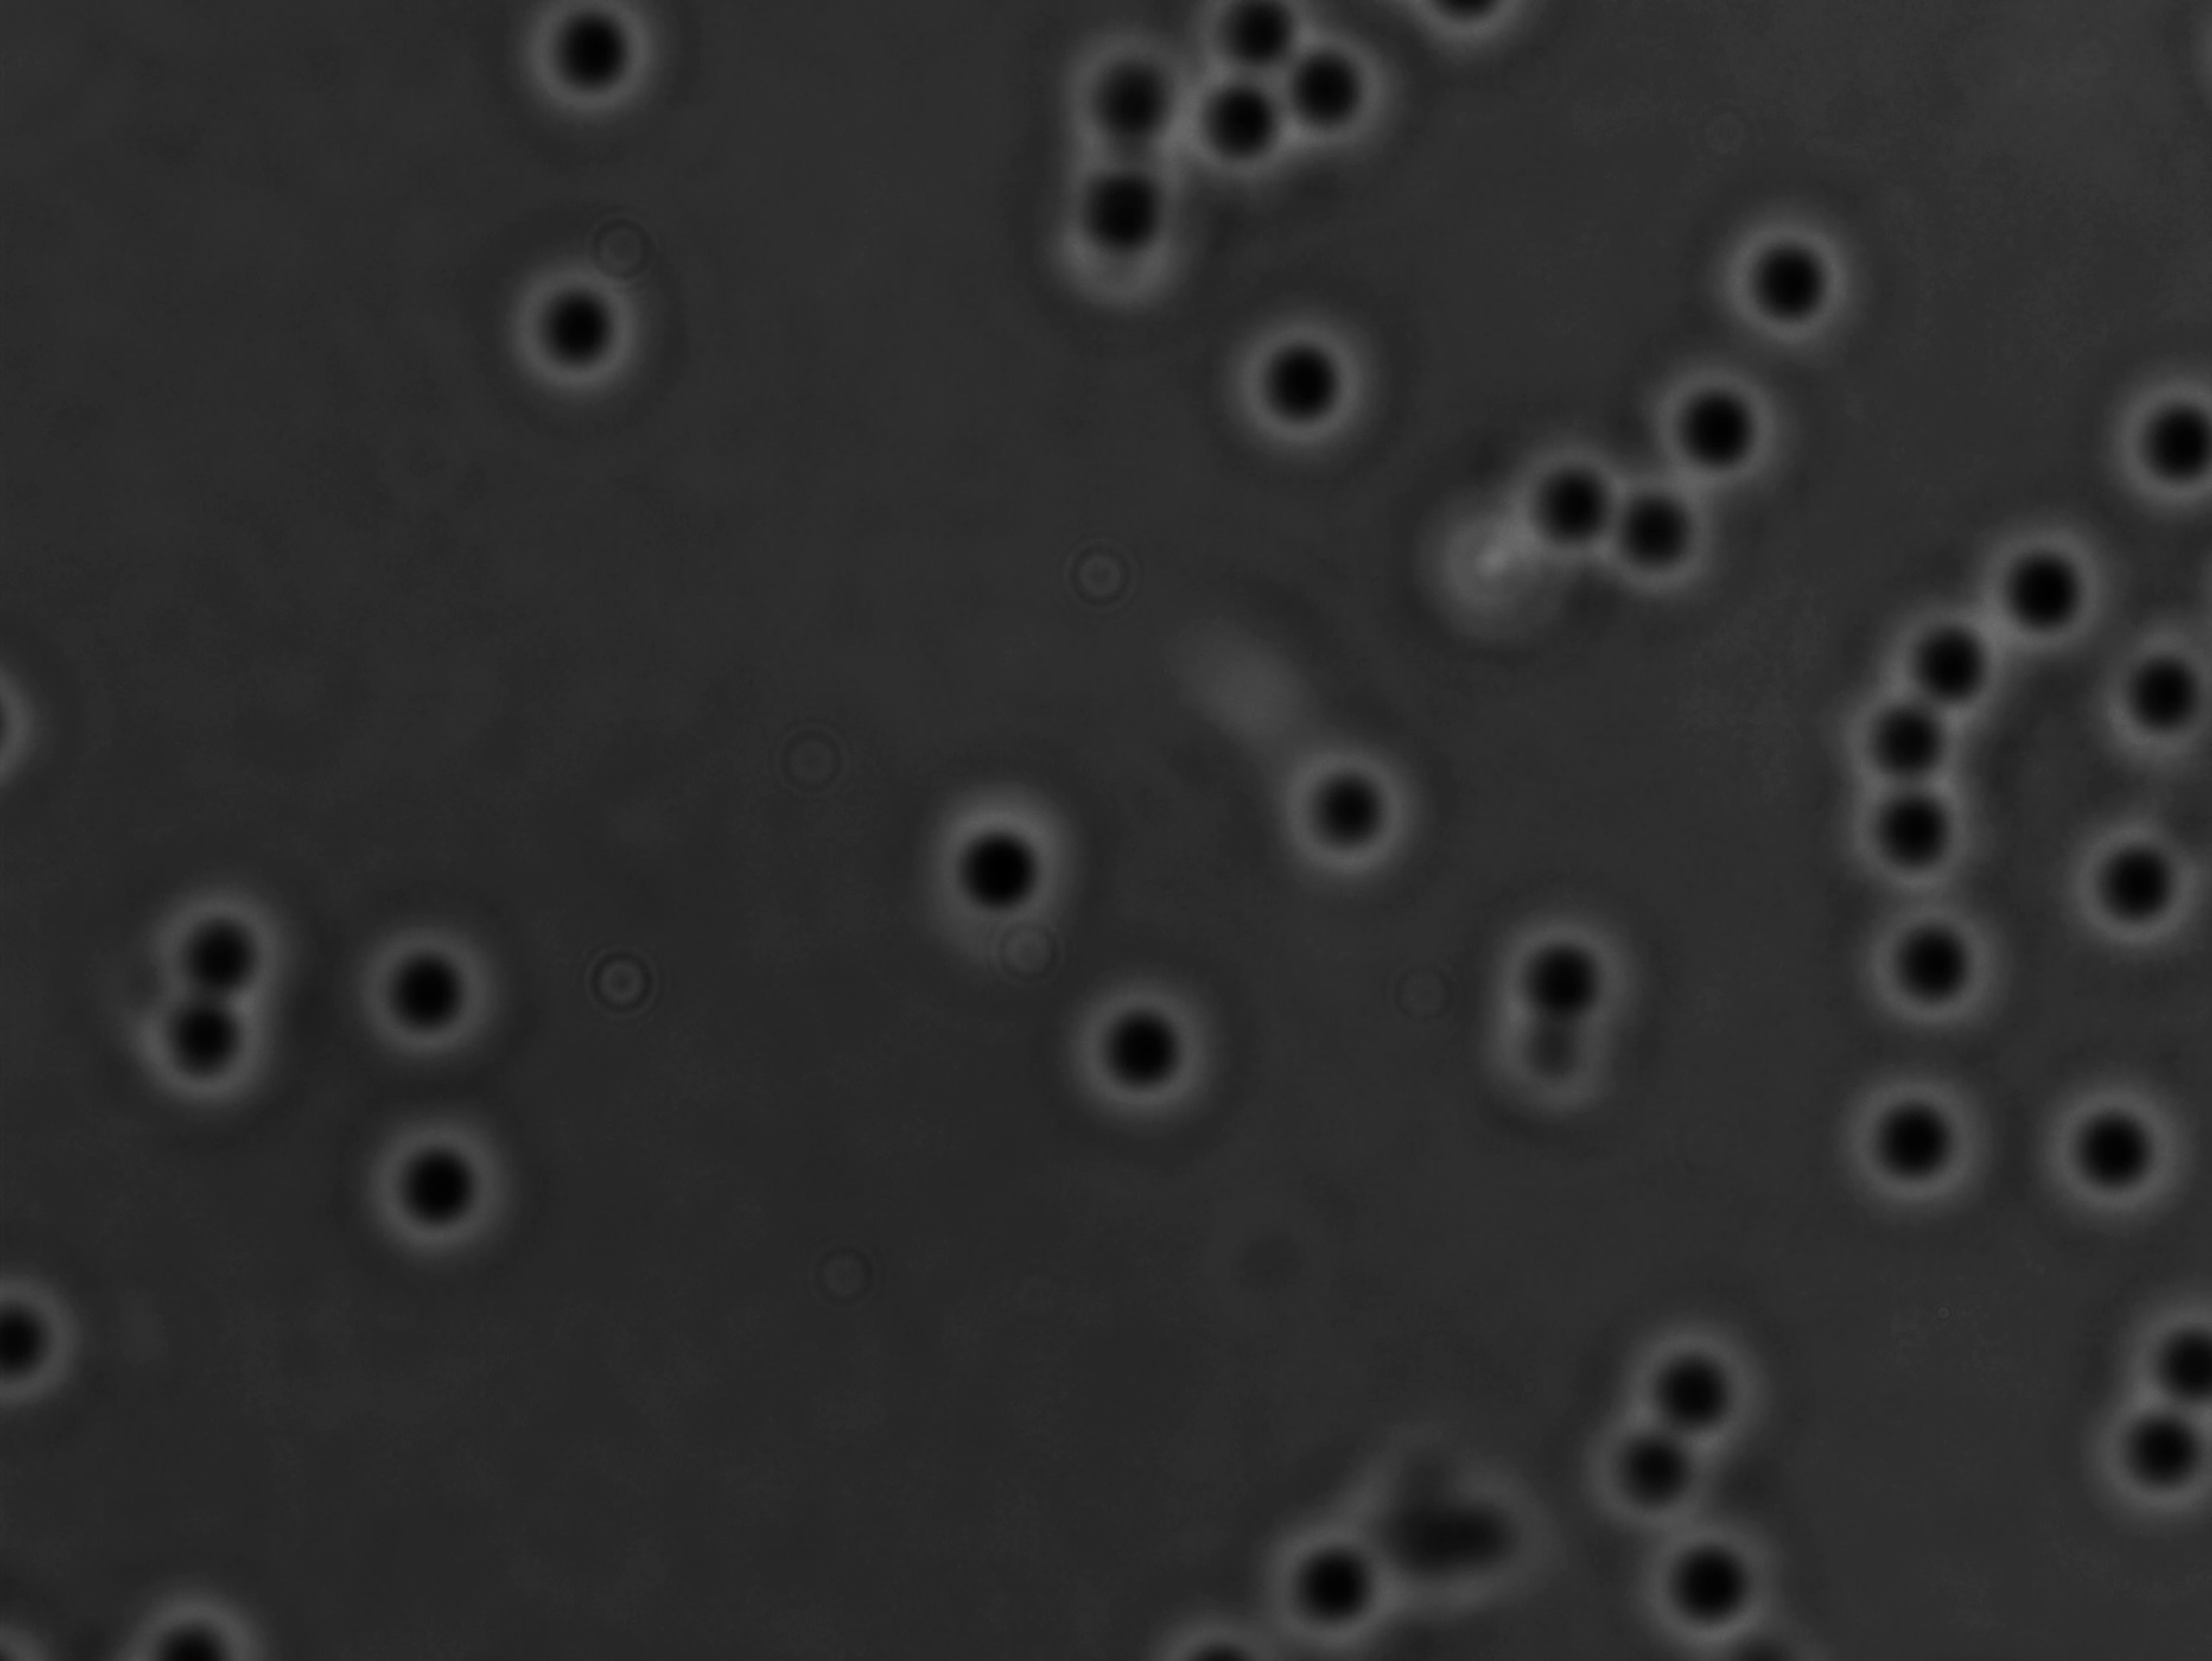depth:-80: (1819, 750, 2022, 926), (338, 913, 523, 1094), (1703, 202, 1882, 377), (1265, 731, 1441, 907), (1577, 440, 1743, 626), (1069, 967, 1249, 1138), (361, 1099, 539, 1270), (1212, 291, 1383, 466), (1833, 660, 2017, 822), (1839, 886, 2017, 1052), (1828, 1063, 2011, 1223), (1636, 344, 1813, 508), (919, 790, 1090, 956), (2039, 1068, 2212, 1228), (1499, 438, 1661, 604), (1970, 508, 2139, 665), (499, 253, 654, 419), (2069, 803, 2212, 979), (2106, 344, 2212, 525)
